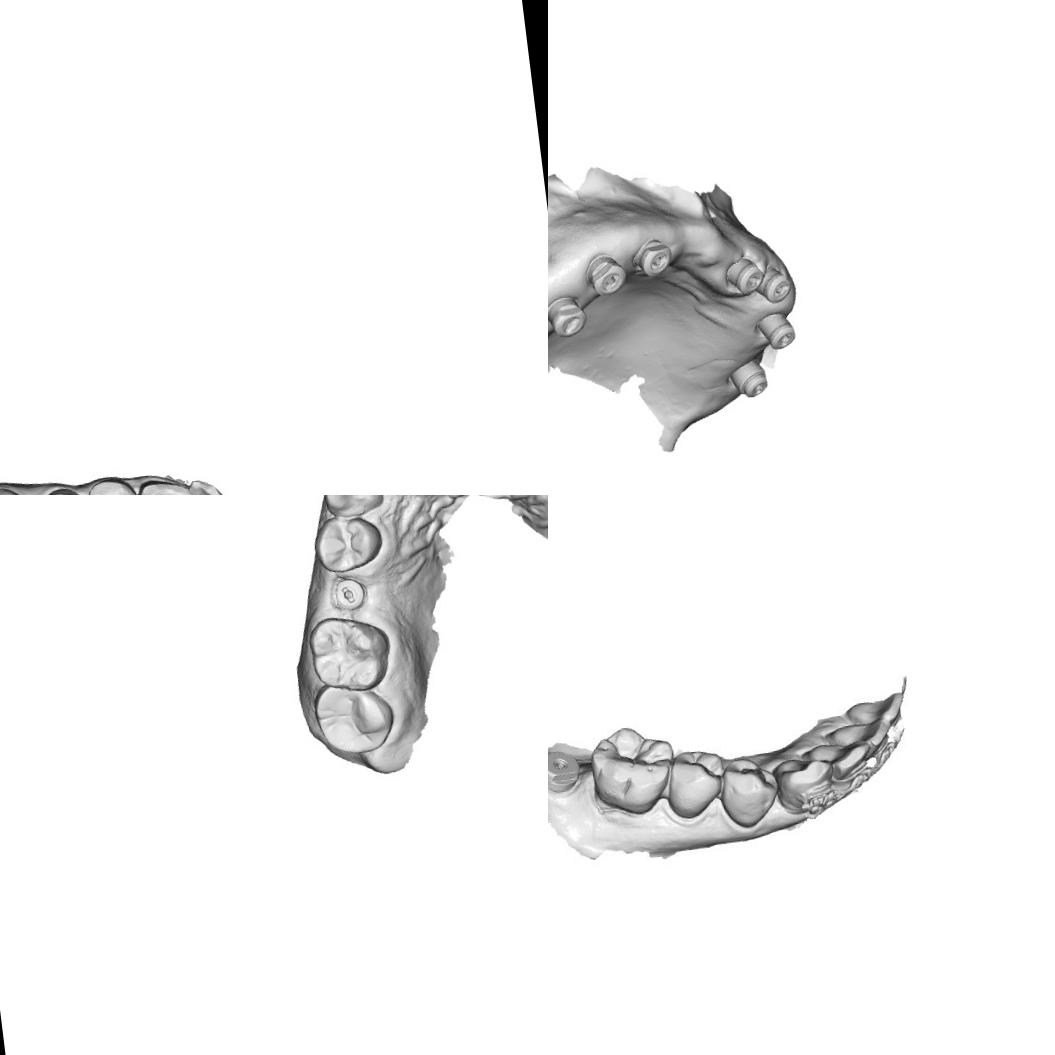canine: (772, 748, 832, 818), (317, 495, 387, 522), (134, 475, 196, 495)
implant: (548, 745, 583, 798), (733, 360, 770, 400), (762, 313, 797, 348)
implant_minus: (590, 252, 626, 299), (634, 236, 676, 276), (729, 253, 766, 296), (329, 573, 368, 613), (548, 296, 586, 337), (759, 268, 792, 304)
incisor: (824, 714, 894, 760), (809, 737, 867, 783), (843, 691, 909, 727), (171, 475, 230, 495)
molar: (584, 720, 682, 819), (304, 608, 395, 696), (308, 677, 401, 759)
premolar: (655, 742, 726, 824), (713, 746, 778, 829), (310, 511, 386, 576), (83, 471, 142, 495)
